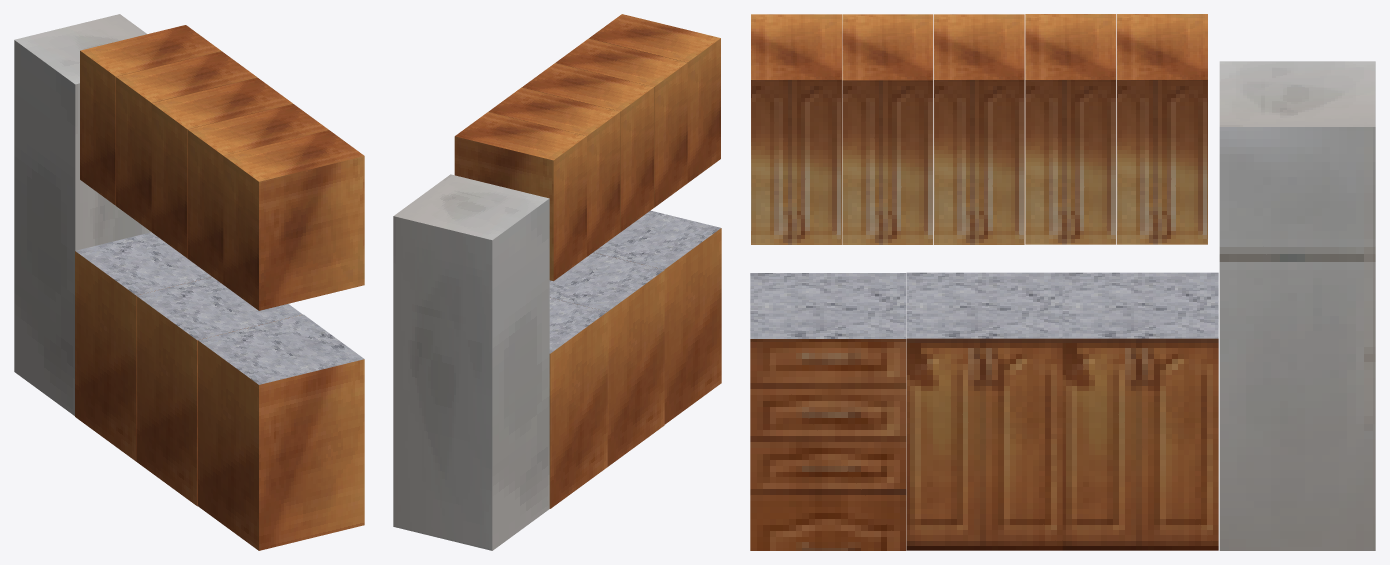
File: kitchen_cabinetry.glb
3 views of the same model, side by side, from view 1: azimuth 30°, elevation 25°; view 2: azimuth 150°, elevation 25°; view 3: azimuth 270°, elevation 25° (orthographic). The views are drawn at different scales.
Visible parts, largest first — view 1: chladnicka; view 2: chladnicka; view 3: chladnicka.
Boxes of the visible parts, <box> form: chladnicka: <box>14,14,364,550</box>; chladnicka: <box>393,14,721,550</box>; chladnicka: <box>750,14,1375,550</box>.
Bounding box in the file's own units: 0.605 × 2 × 2.41.
1 material, 1 textured.
